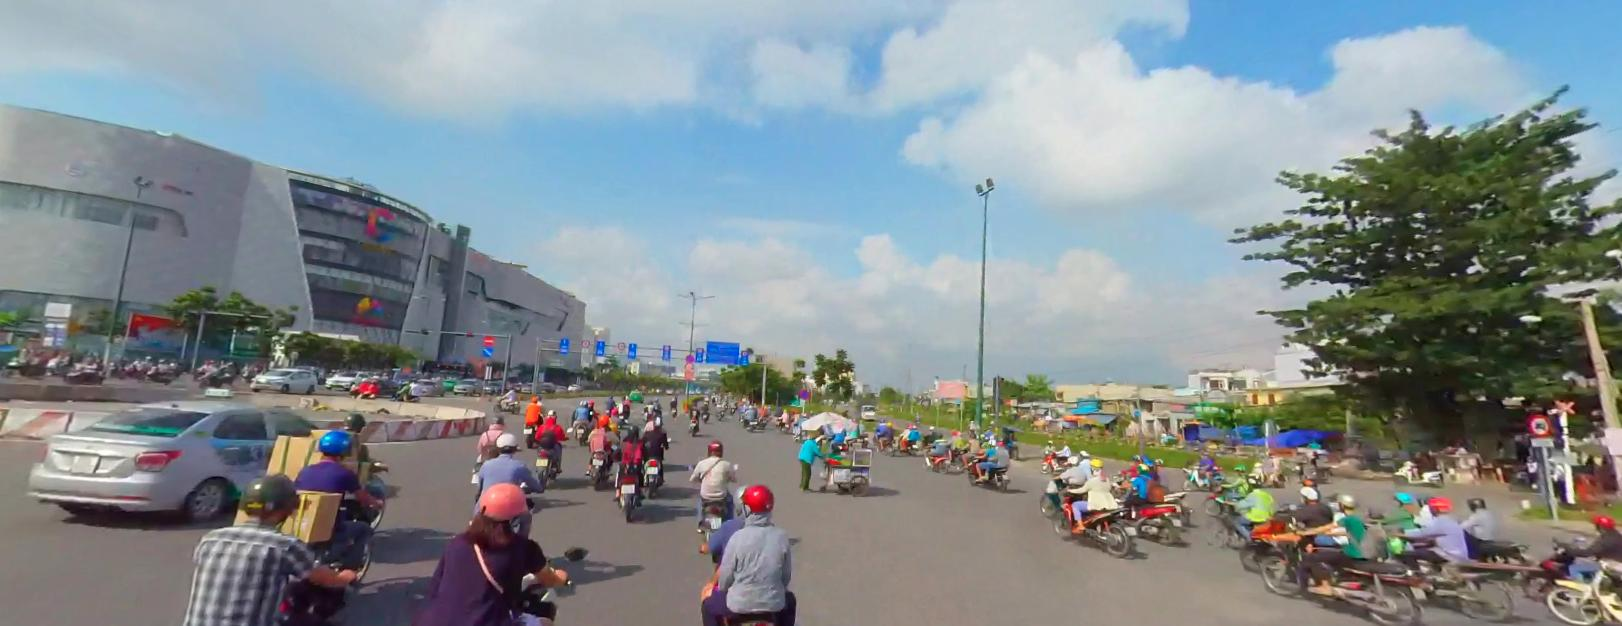Cam con lai: (1527, 412, 1552, 436), (618, 340, 625, 347), (581, 338, 589, 345)
Cam dung va do: (799, 388, 809, 398), (685, 353, 693, 360)
Cam nguoc chieu: (483, 334, 494, 345)
Hieu lenh: (482, 345, 494, 355)
